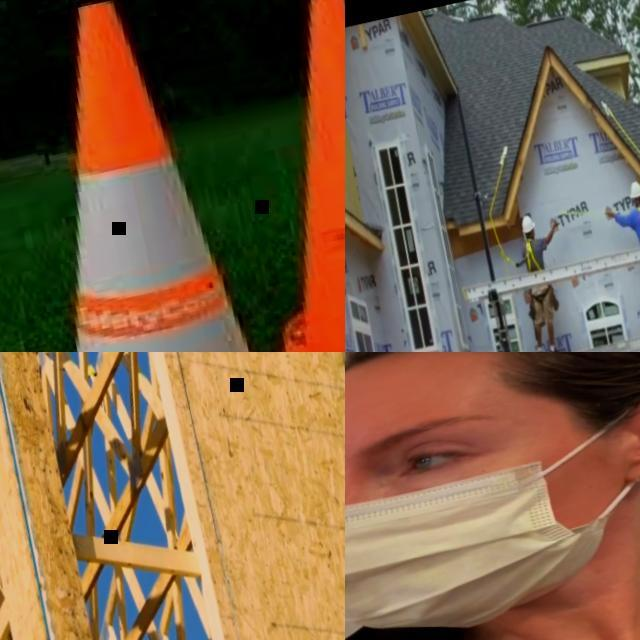helmet: (520, 213, 536, 234), (627, 179, 640, 199)
